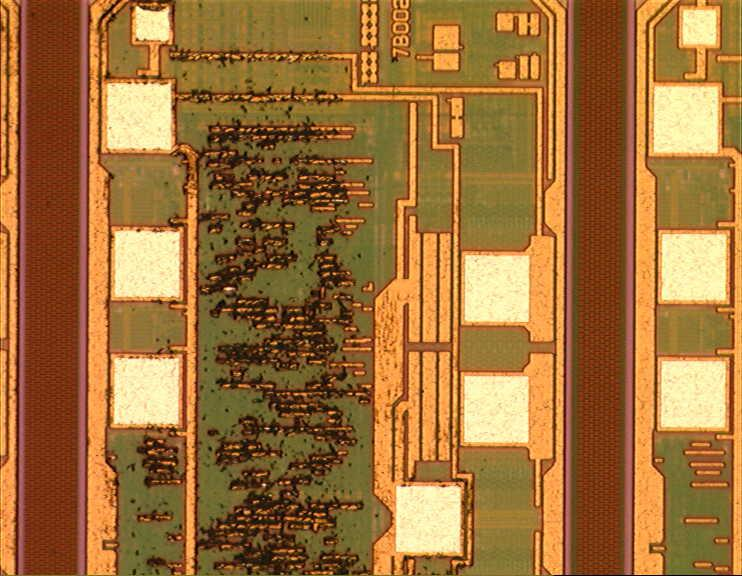PO CONTAMINATION: (125, 35, 387, 576)
